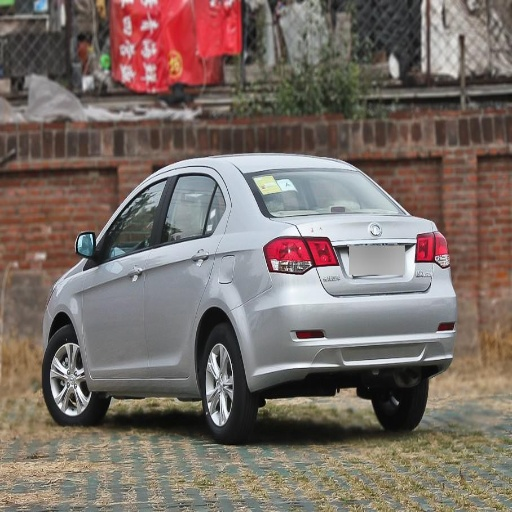back_bumper: (236, 263, 457, 385)
back_glass: (244, 167, 401, 216)
back_left_door: (144, 168, 227, 376)
